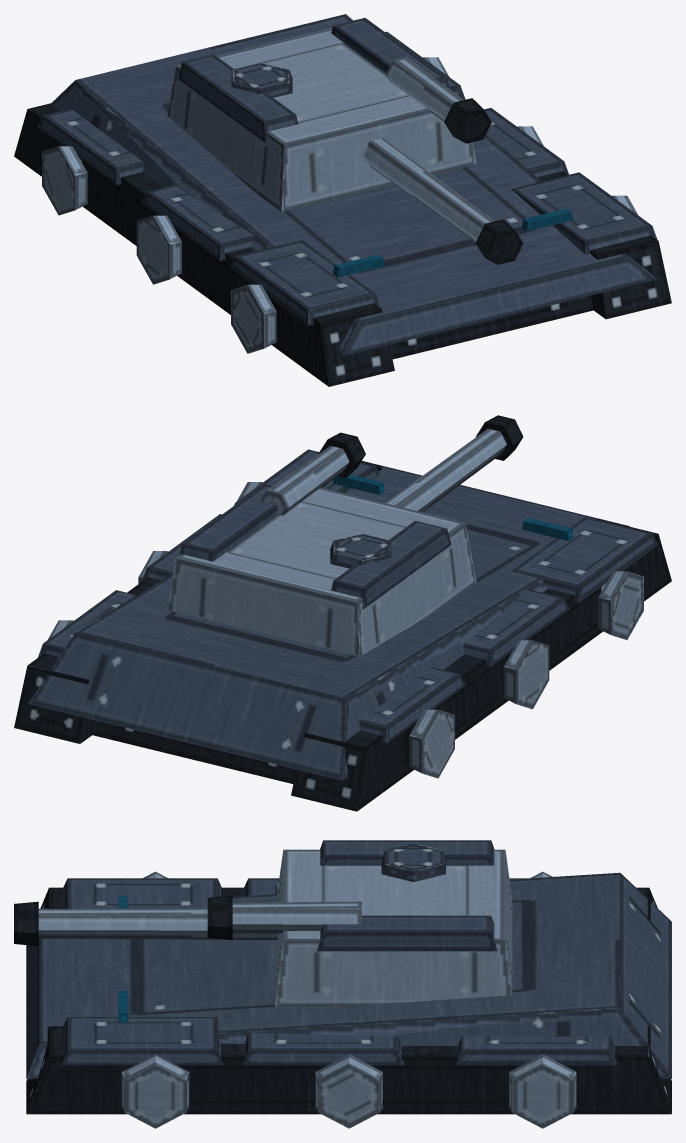
File: unit-heavy_tank.fbx
The picture shows the model from 3 angles, top to bottom: view 1: azimuth 30°, elevation 25°; view 2: azimuth 150°, elevation 25°; view 3: azimuth 270°, elevation 25°; orthographic projection. The views are drawn at different scales.
Parts seen in each view (by area): view 1: unit-heavy_tank; view 2: unit-heavy_tank; view 3: unit-heavy_tank.
Part boxes in pixels (<box>): unit-heavy_tank: <box>14,14,671,386</box>; unit-heavy_tank: <box>14,415,671,811</box>; unit-heavy_tank: <box>14,840,671,1128</box>.
Size of the model in its own units: 543 by 225 by 795.
1 material, 1 textured.
